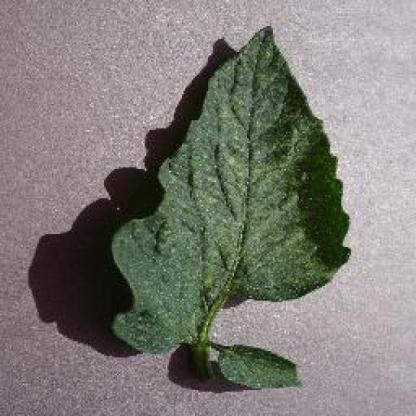Tomato_Spider_Mites: (112, 28, 351, 352)
